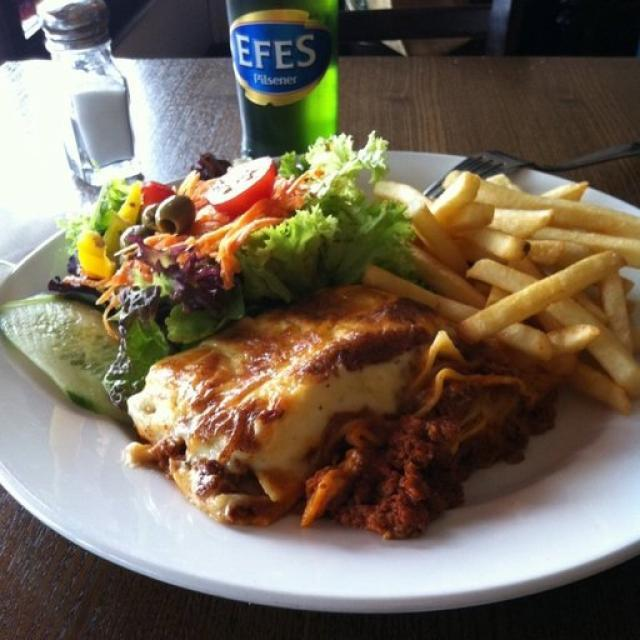Lasagna: (150, 313, 486, 522)
